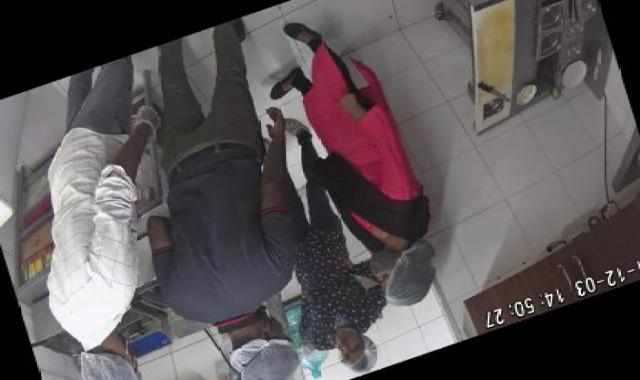hairnet: (374, 237, 451, 309), (216, 337, 310, 380), (340, 327, 395, 374), (71, 349, 152, 380)
